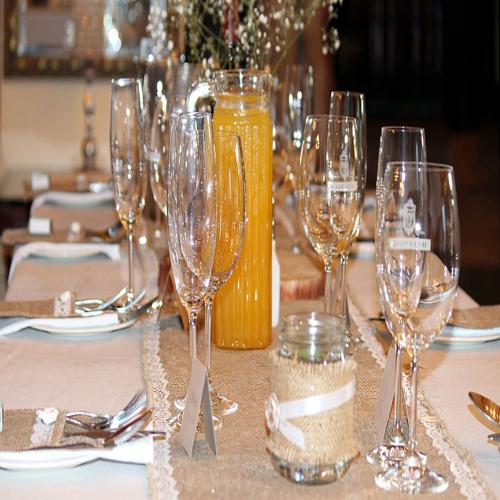copa: (381, 163, 450, 493), (181, 132, 250, 418), (375, 123, 427, 466), (170, 113, 212, 388), (301, 114, 350, 338), (326, 92, 365, 335), (110, 79, 146, 315)
